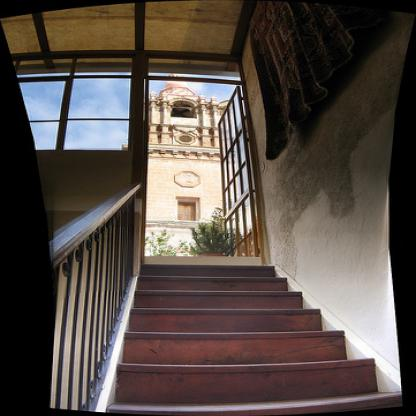stairs: (142, 286, 289, 416)
